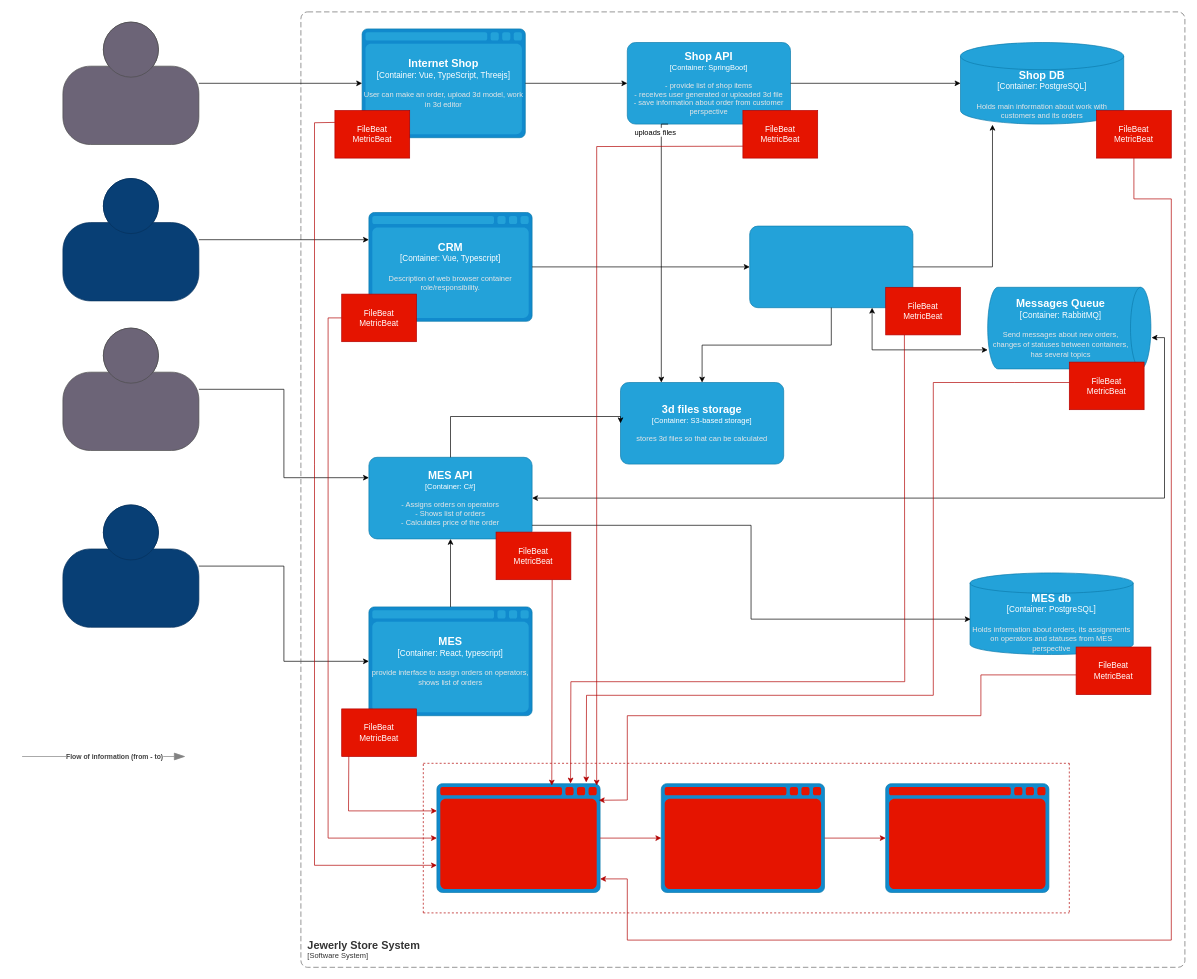
This 1197x979 diagram has some shape labels left out. Here are the shapes that lost their labels. From the top down, the centre of each, then its label:
[130,82]: Customer [Person] Description of external person.
[130,239]: Seller [Person] Operates with order, confirms manufacturing for the user
[831,266]: CRM API [Container: SpringBoot] Description of container role/responsibility.
[130,389]: API user [Person] Description of external person.
[130,565]: Operator [Person] Takes order in work, manufactures jewerly
[518,838]: Logstash [Container: ] Конвейер обработки логов от агентов
[743,838]: Elasticsearch [Container: ] Хранение и индексирование логов
[967,838]: Kibana [Container: ] Визуализация логов
